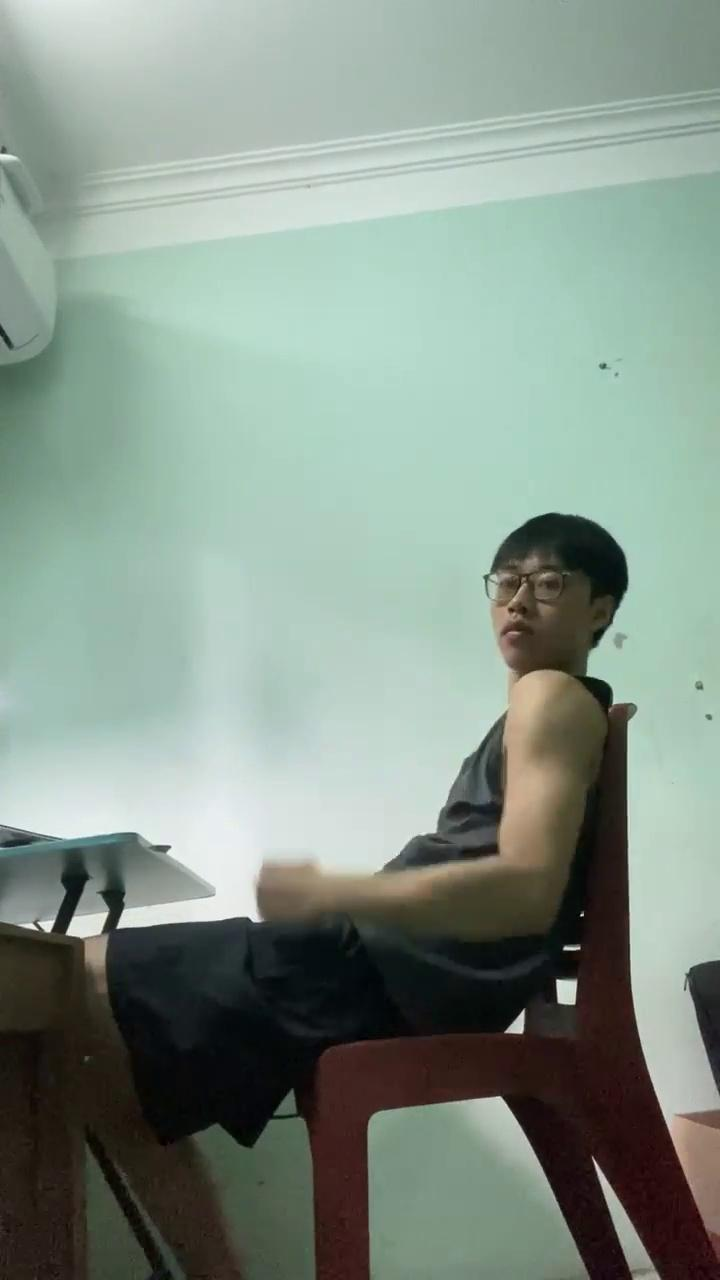BadPosture: (21, 521, 631, 1266)
